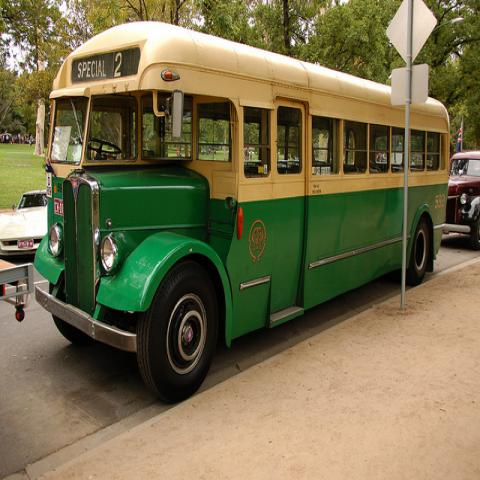bus: (33, 16, 449, 405)
car: (441, 149, 479, 251), (0, 188, 48, 256)
